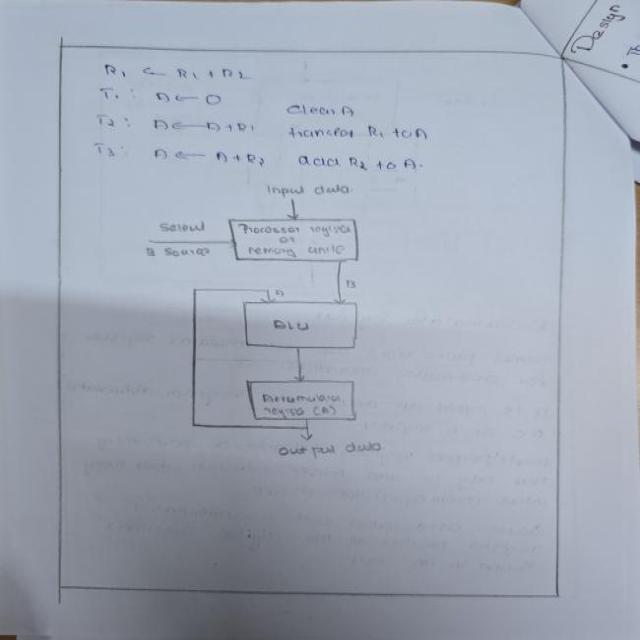Figure Detection - v3 Dataset Version2: (136, 173, 397, 464)
